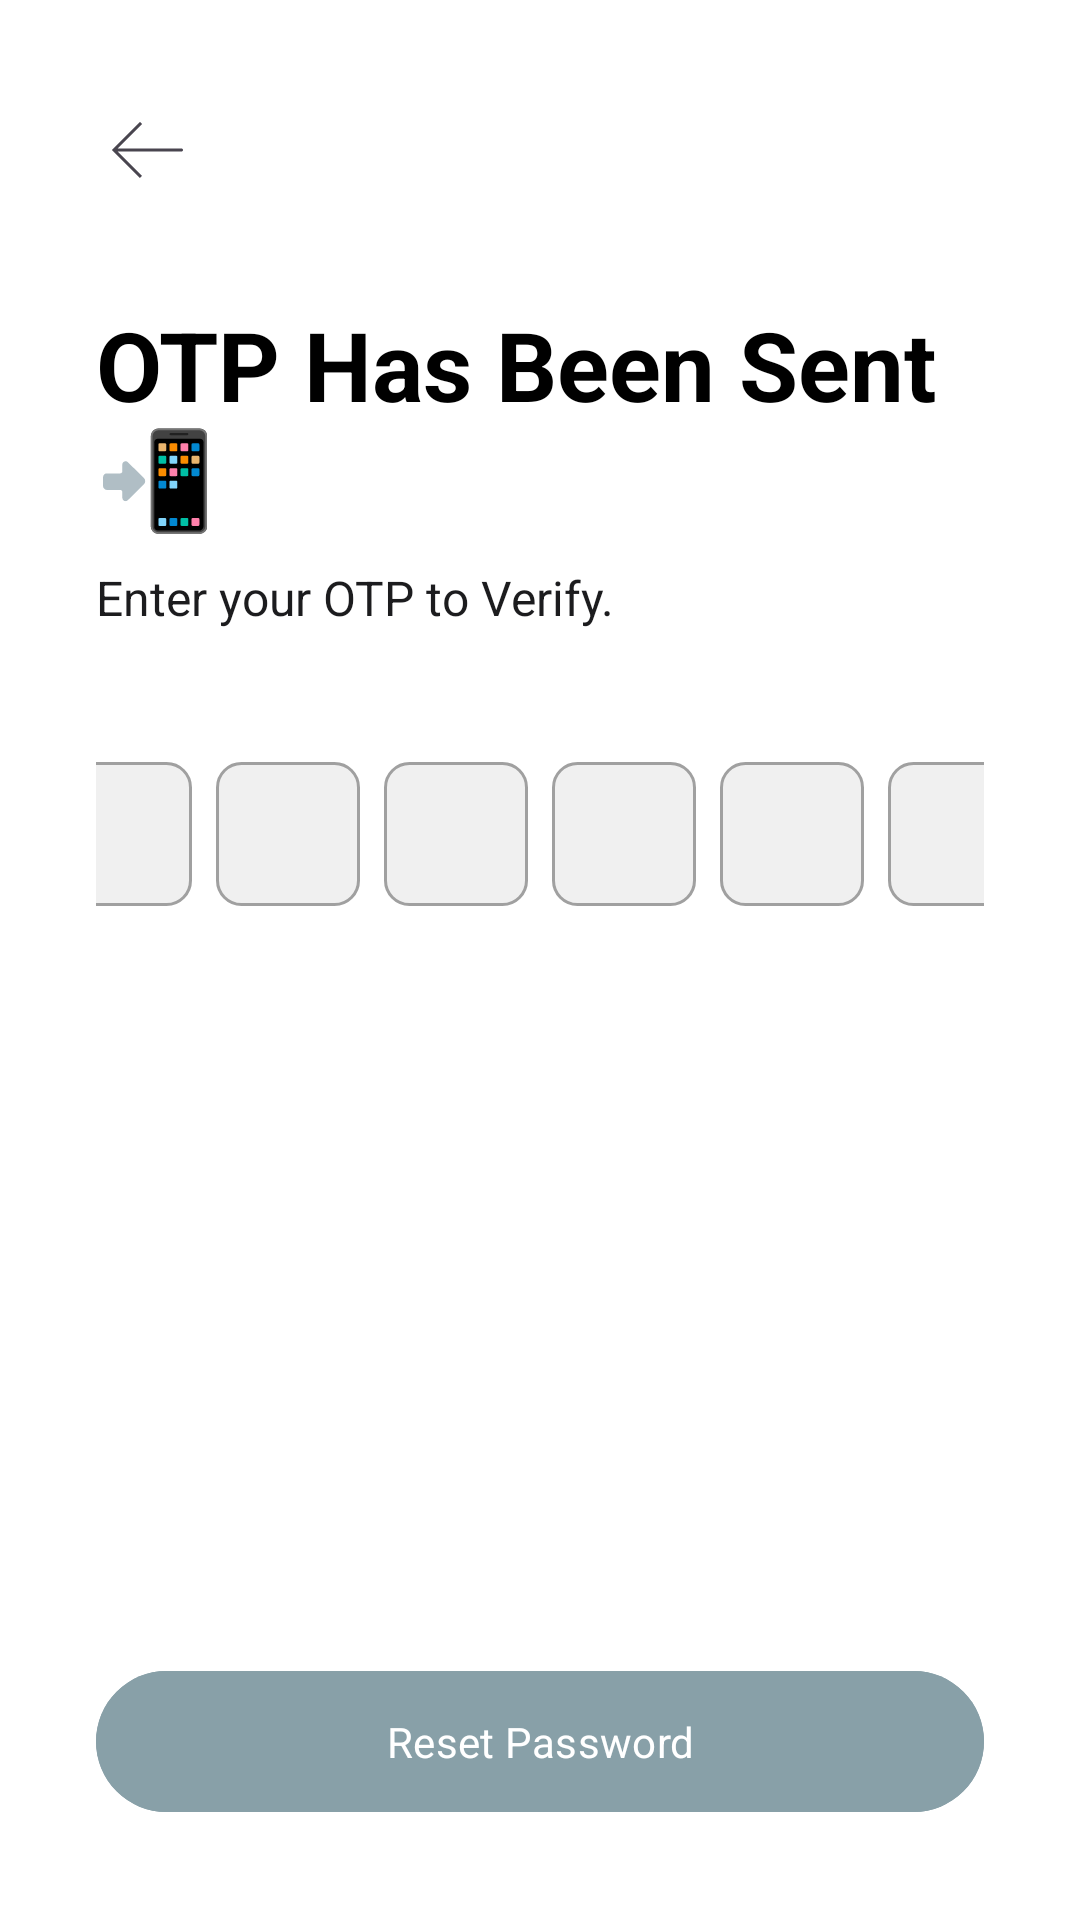

Where icons sit on this 1080px x 1920px app screen, as (x1, y1, x2, y2):
Back button: (112, 122, 183, 178)
